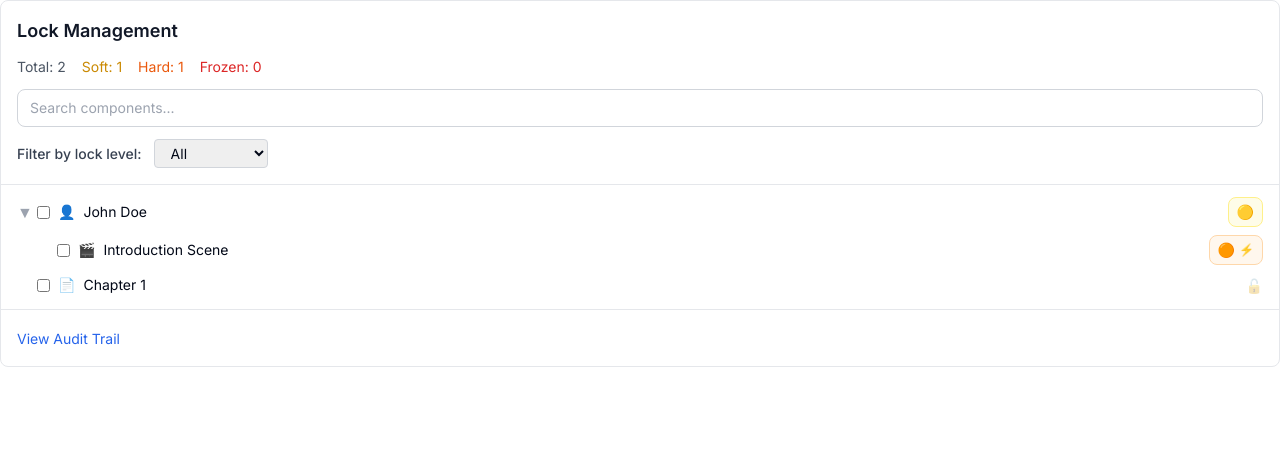
Scenario: LockManagementPanel › Bulk Operations › clears selection when Clear button is clicked
What coordinates should you click on to do the following:
click the checkbox next to "John Doe"
I would click on:
 (44, 212)
Its box is [37,206,50,218].
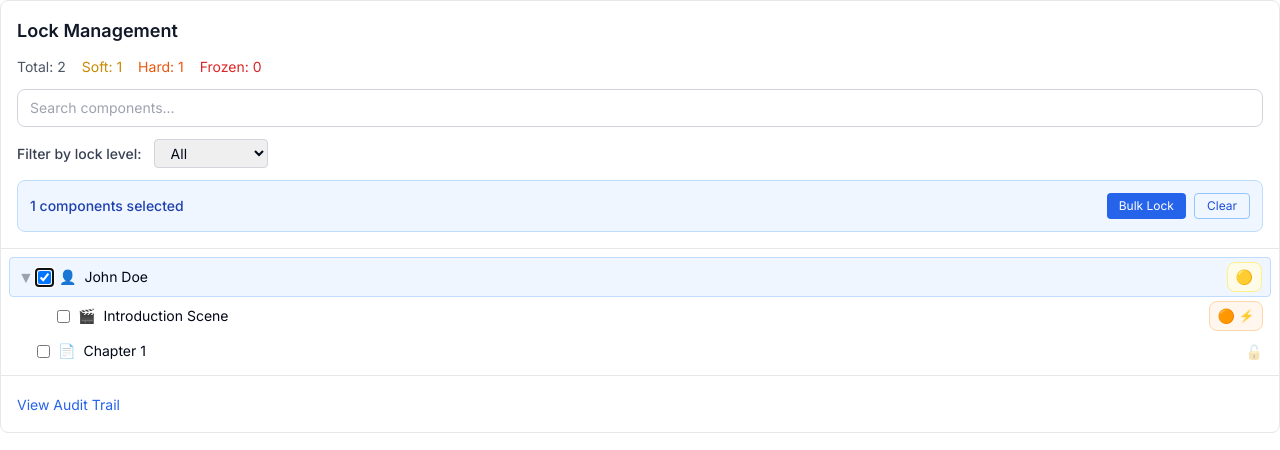
What coordinates should you click on to do the following:
click the button "Clear"
I would click on:
 (1222, 206)
Its box is [1194,193,1250,219].
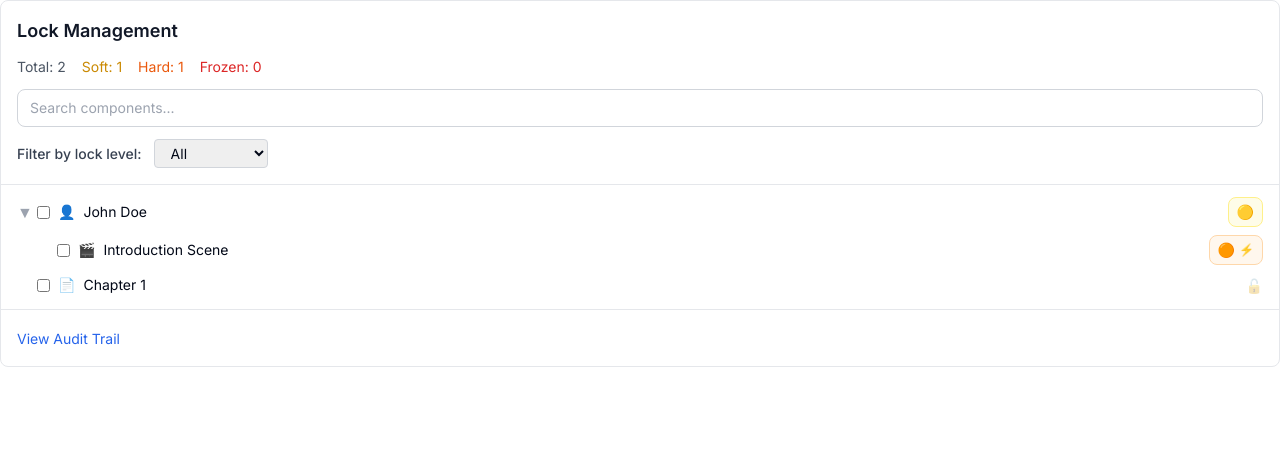
Check: the text "1 components selected" is gone
